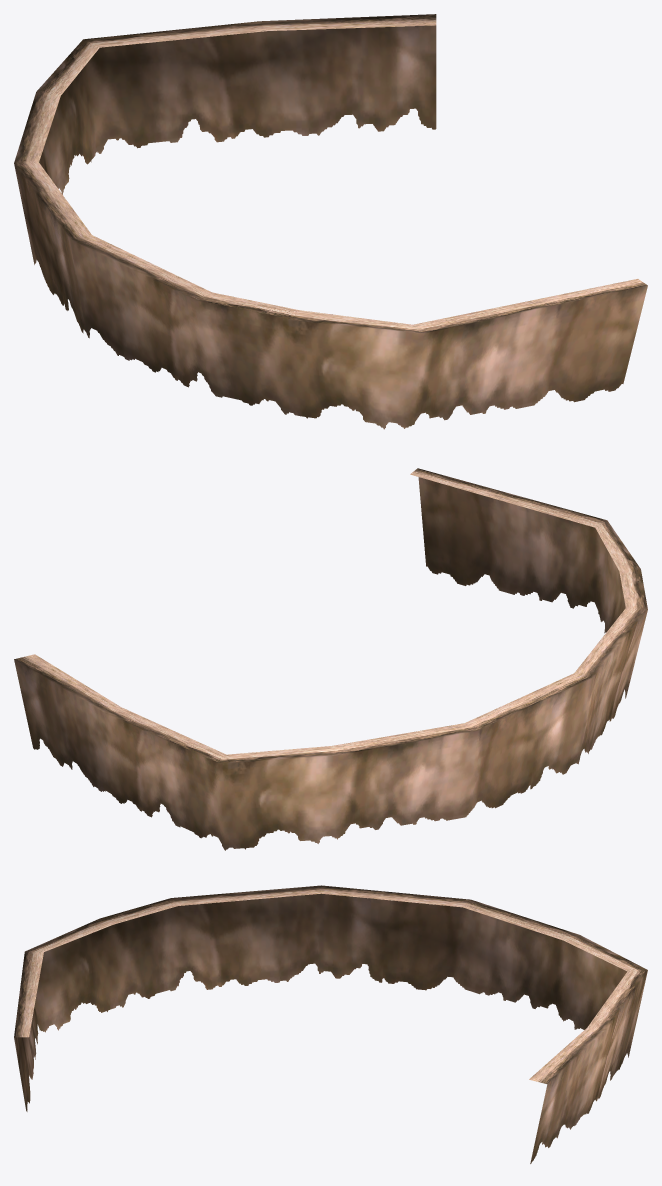
Rendered from OVERHILL_A_01_LINE99.fbx.
3 renders of one model, top to bottom at view 1: azimuth 30°, elevation 25°; view 2: azimuth 150°, elevation 25°; view 3: azimuth 270°, elevation 25°, orthographic. The views are drawn at different scales.
Visible parts, largest first — view 1: OVERHILL_A_01_LINE99; view 2: OVERHILL_A_01_LINE99; view 3: OVERHILL_A_01_LINE99.
Boxes of the visible parts, x1,y1,x2,y2 form: OVERHILL_A_01_LINE99: (14,14,647,429); OVERHILL_A_01_LINE99: (14,468,647,850); OVERHILL_A_01_LINE99: (14,885,647,1163).
Size of the model in its own units: 22943 by 4940 by 30915.
Materials: 1 (1 with a texture image).
